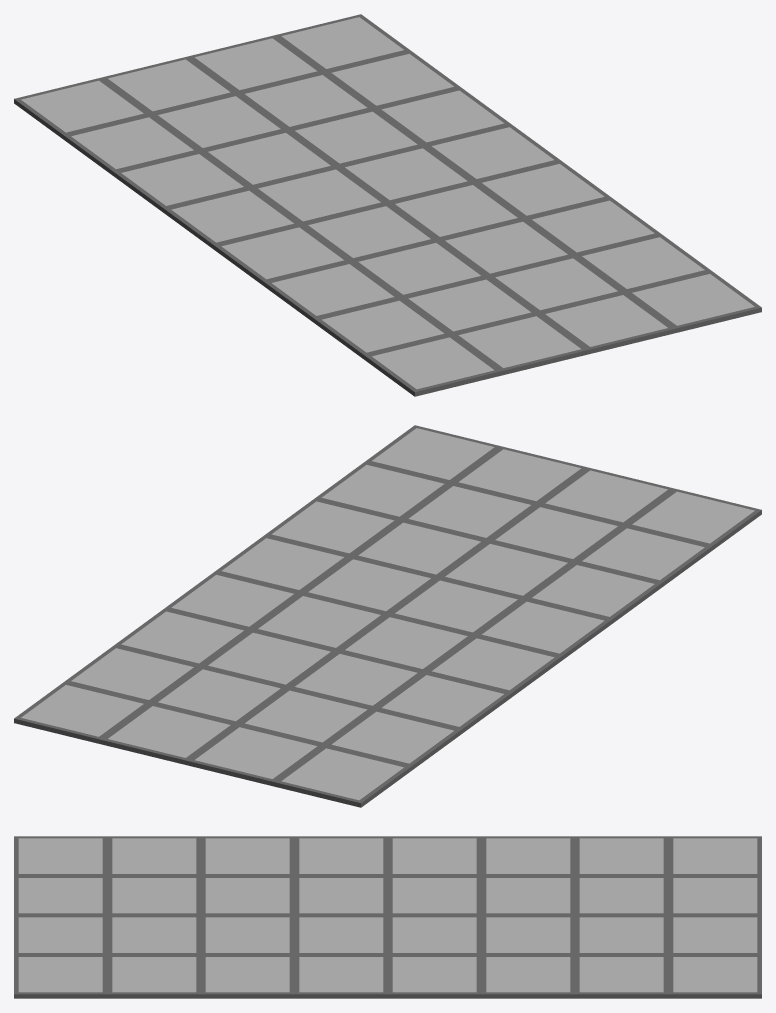
File: ceiling_01_XL.glb
3 views of the same model, one above another, from view 1: azimuth 30°, elevation 25°; view 2: azimuth 150°, elevation 25°; view 3: azimuth 270°, elevation 25° (orthographic). The views are drawn at different scales.
Parts seen in each view (by area): view 1: Untitled; view 2: Untitled; view 3: Untitled.
Boxes of the visible parts, x1,y1,x2,y2 form: Untitled: [14, 14, 761, 396]; Untitled: [14, 425, 761, 807]; Untitled: [14, 836, 761, 998].
Size of the model in its own units: 2.4 by 0.03 by 4.8.
1 material, 1 textured.
